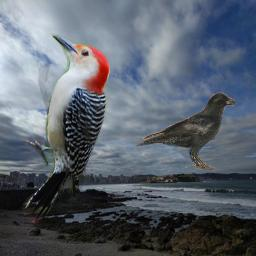Crow: (135, 92, 235, 171)
Woodpecker: (21, 33, 110, 224)
